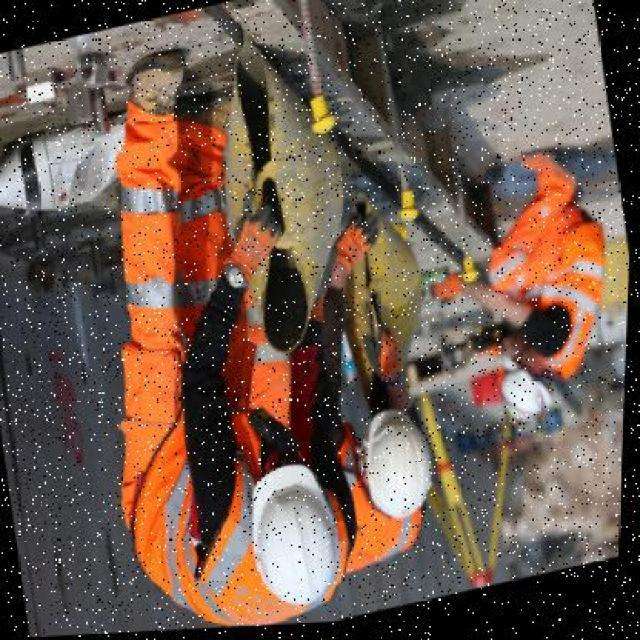helmet: (239, 452, 350, 616), (354, 400, 442, 531)
vest: (97, 280, 270, 634), (514, 212, 616, 380)
